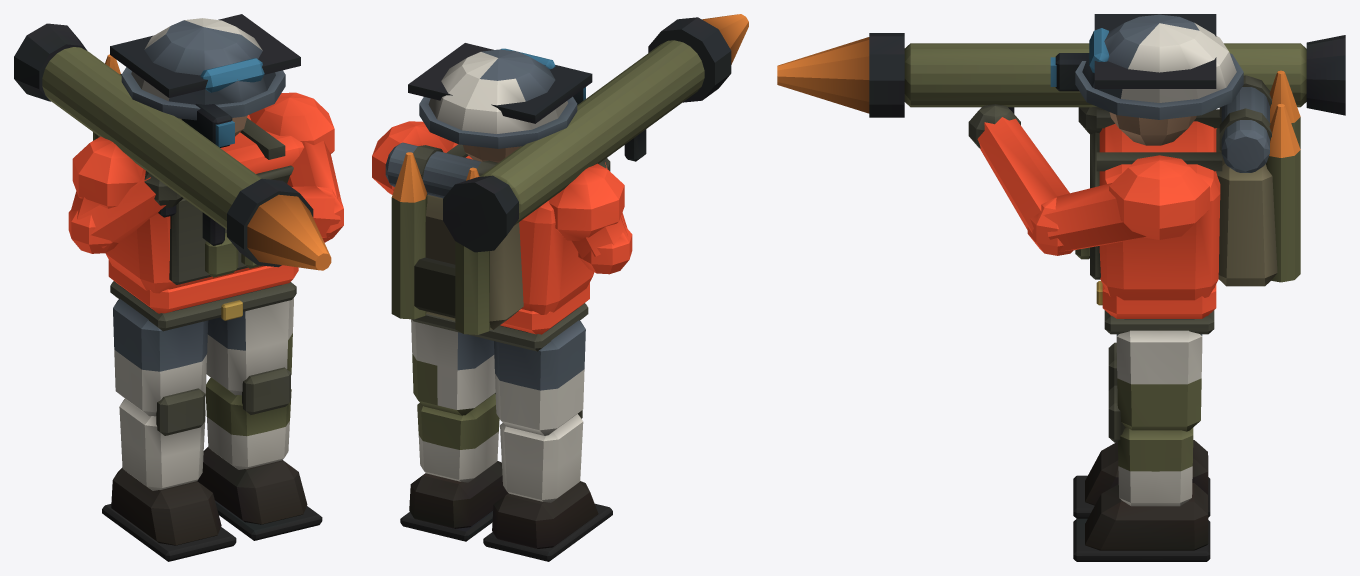
The model's file is rocket.glb.
3 views of the same model, side by side, from view 1: azimuth 30°, elevation 25°; view 2: azimuth 150°, elevation 25°; view 3: azimuth 270°, elevation 25° (orthographic). The views are drawn at different scales.
Parts seen in each view (by area): view 1: geo_torso, geo_leg_right, geo_leg_left, geo_arm_right, geo_arm_left; view 2: geo_torso, geo_leg_right, geo_leg_left, geo_arm_right; view 3: geo_torso, geo_leg_left, geo_arm_left, geo_leg_right.
Boxes of the visible parts, x1,y1,x2,y2 form: geo_torso: [14, 14, 334, 331]; geo_leg_right: [102, 299, 236, 561]; geo_leg_left: [197, 298, 322, 540]; geo_arm_right: [68, 169, 183, 253]; geo_arm_left: [287, 140, 343, 242]; geo_torso: [372, 14, 748, 351]; geo_leg_right: [483, 320, 612, 561]; geo_leg_left: [400, 319, 508, 541]; geo_arm_right: [572, 158, 632, 274]; geo_torso: [777, 14, 1345, 334]; geo_leg_left: [1073, 330, 1210, 561]; geo_arm_left: [968, 104, 1145, 255]; geo_leg_right: [1073, 342, 1210, 518].
Bounding box in the file's own units: 1.57 × 2.82 × 2.9.
